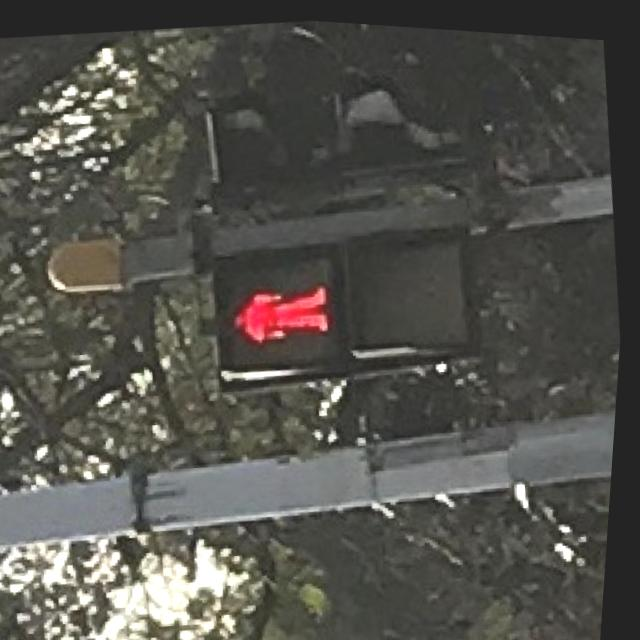red_light: (209, 256, 346, 370)
